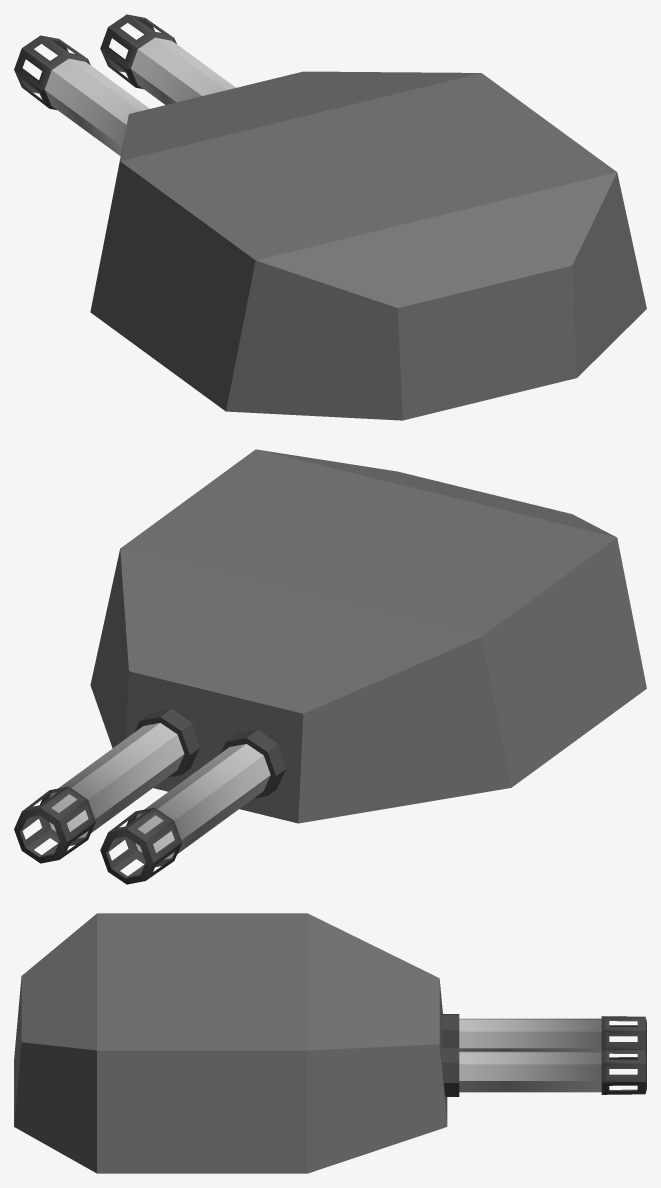
File: Flame3.fbx
3 renders of one model, top to bottom at view 1: azimuth 30°, elevation 25°; view 2: azimuth 150°, elevation 25°; view 3: azimuth 270°, elevation 25°, orthographic. The views are drawn at different scales.
Visible parts, largest first — view 1: Cube.001; view 2: Cube.001; view 3: Cube.001.
Boxes of the visible parts, bbox=[...] form: Cube.001: bbox=[14, 14, 646, 420]; Cube.001: bbox=[14, 449, 646, 884]; Cube.001: bbox=[14, 913, 646, 1173].
Size of the model in its own units: 146 by 47.83 by 245.
Materials: 1 (1 with a texture image).
